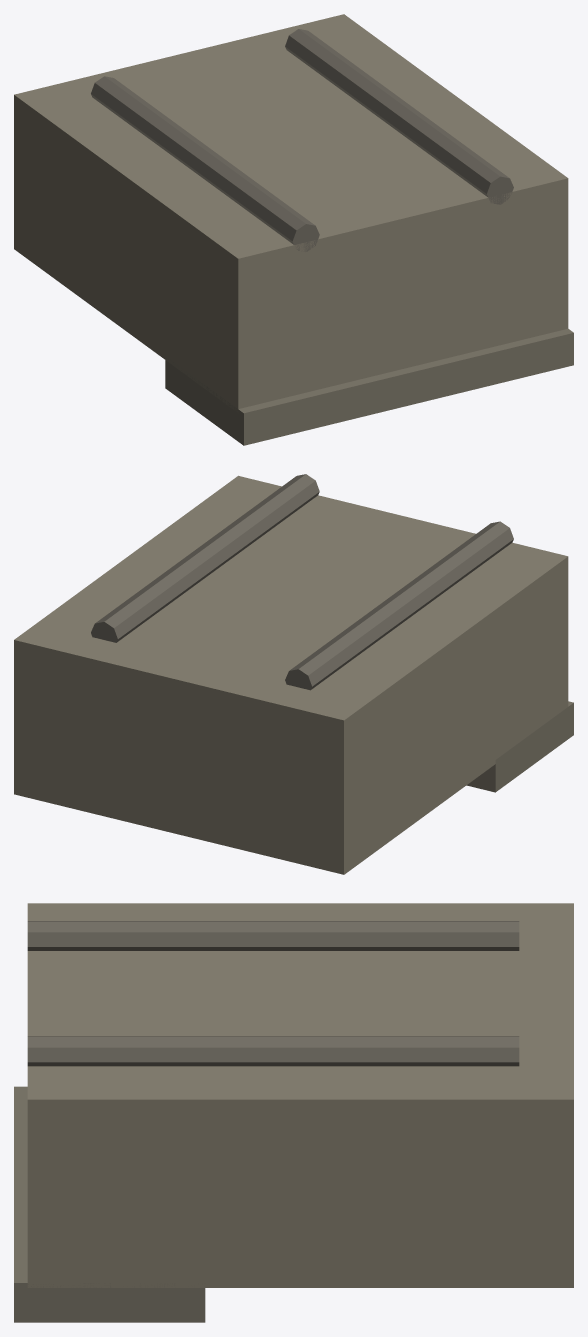
The model's file is backpack_worn.glb.
3 renders of one model, top to bottom at view 1: azimuth 30°, elevation 25°; view 2: azimuth 150°, elevation 25°; view 3: azimuth 270°, elevation 25°, orthographic. The views are drawn at different scales.
Parts seen in each view (by area): view 1: world; view 2: world; view 3: world.
Part boxes in pixels (<box>): world: <box>14,14,573,445</box>; world: <box>14,474,573,874</box>; world: <box>14,903,573,1322</box>.
Bounding box in the file's own units: 0.85 × 0.495 × 1.02.
